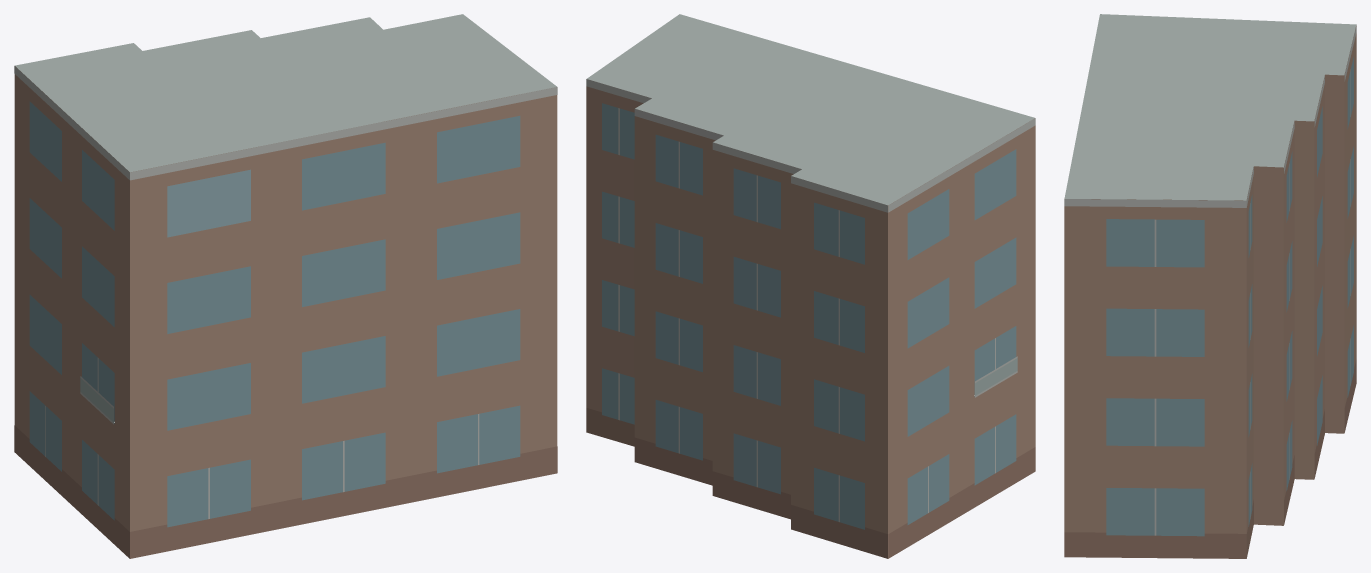
Rendered from survey-upis-32837864.glb.
The picture shows the model from 3 angles, left to right: view 1: azimuth 30°, elevation 25°; view 2: azimuth 150°, elevation 25°; view 3: azimuth 270°, elevation 25°; orthographic projection. The views are drawn at different scales.
Visible parts, largest first — view 1: survey-upis-32837864.tmp; view 2: survey-upis-32837864.tmp; view 3: survey-upis-32837864.tmp.
Boxes of the visible parts, x1,y1,x2,y2 form: survey-upis-32837864.tmp: (14,14,557,558); survey-upis-32837864.tmp: (586,14,1035,558); survey-upis-32837864.tmp: (1064,14,1356,558).
Bounding box in the file's own units: 13.06 × 11.7 × 8.65.
